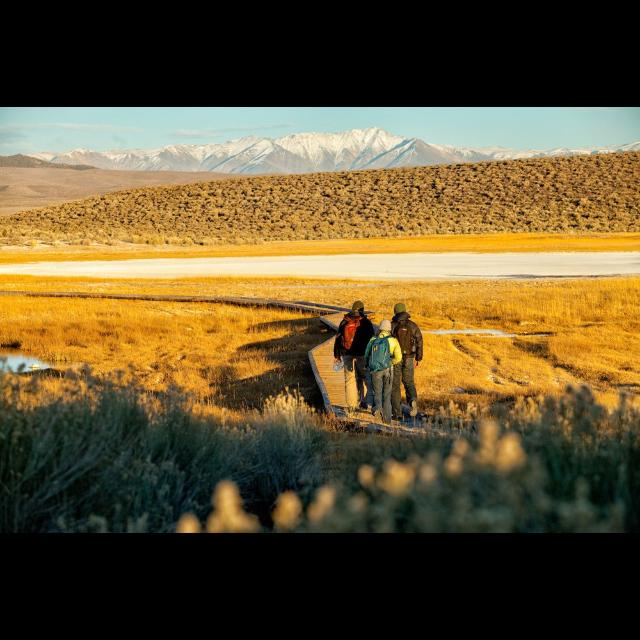head: (394, 304, 408, 318), (353, 302, 365, 316), (381, 322, 392, 334)
person: (332, 298, 378, 417), (380, 302, 424, 424), (362, 319, 403, 429)
